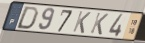4: (108, 13, 124, 38)
7: (56, 9, 74, 33)
9: (37, 7, 56, 33)
D: (15, 6, 40, 31)
K: (71, 10, 92, 35), (89, 12, 110, 36)
